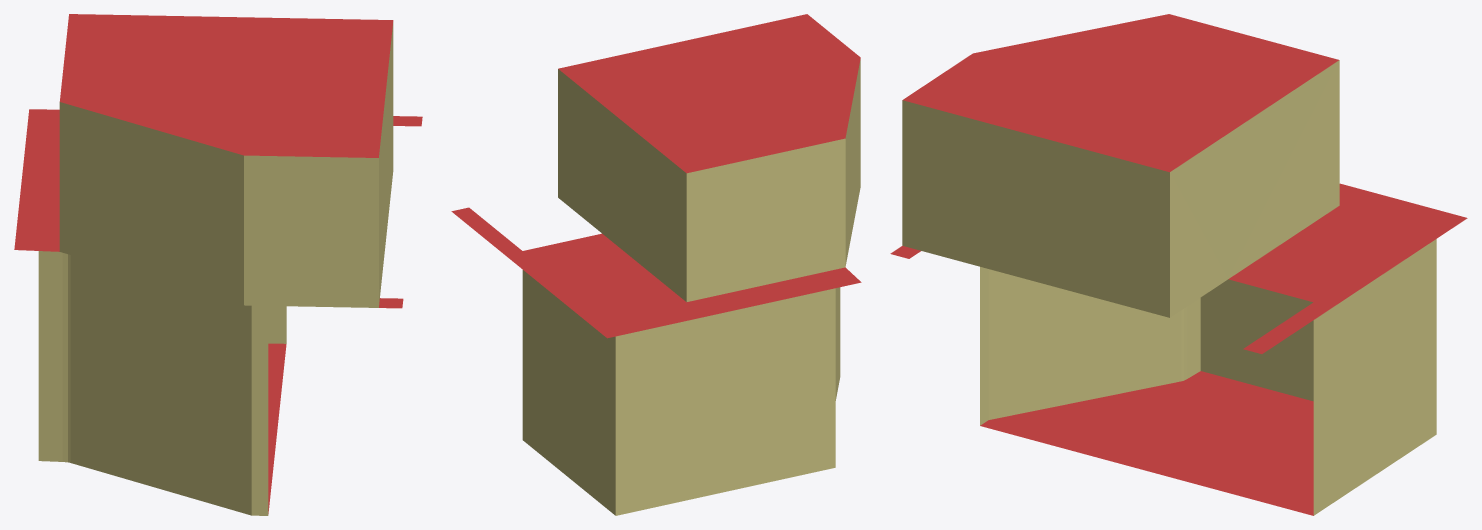
3 views of the same model, side by side, from view 1: azimuth 30°, elevation 25°; view 2: azimuth 150°, elevation 25°; view 3: azimuth 270°, elevation 25° (orthographic). The views are drawn at different scales.
Bounding box in the file's own units: 10.94 × 12.73 × 8.73.
